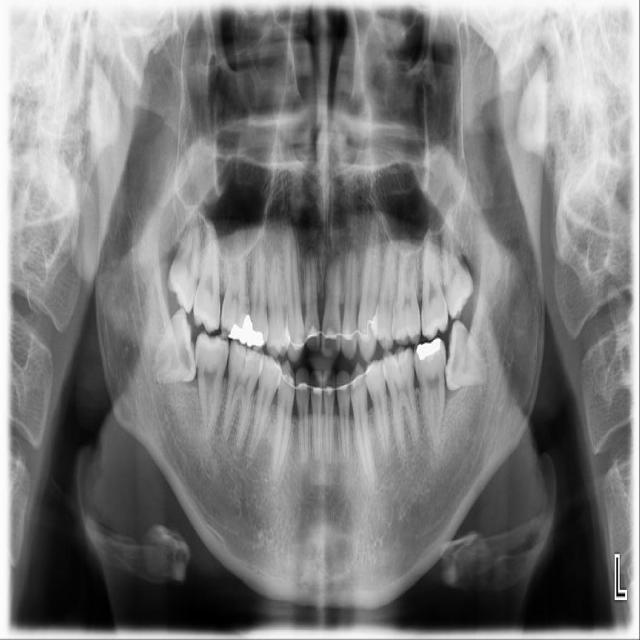3M ESPE Implant: (163, 201, 209, 315)
52: (409, 337, 453, 385), (218, 296, 252, 345), (245, 305, 270, 351), (177, 340, 196, 373)
73: (616, 613, 626, 621)
BioHorizons Implant: (420, 228, 451, 342)
BioLife Implant: (437, 211, 477, 322)
Biomet 3i Implant: (436, 316, 491, 392)
Blue Sky Bio Implant: (412, 337, 449, 449)
Caries: (193, 221, 221, 333)
Implant: (185, 328, 232, 446)
Keystone Dental Implant: (150, 306, 199, 385)
